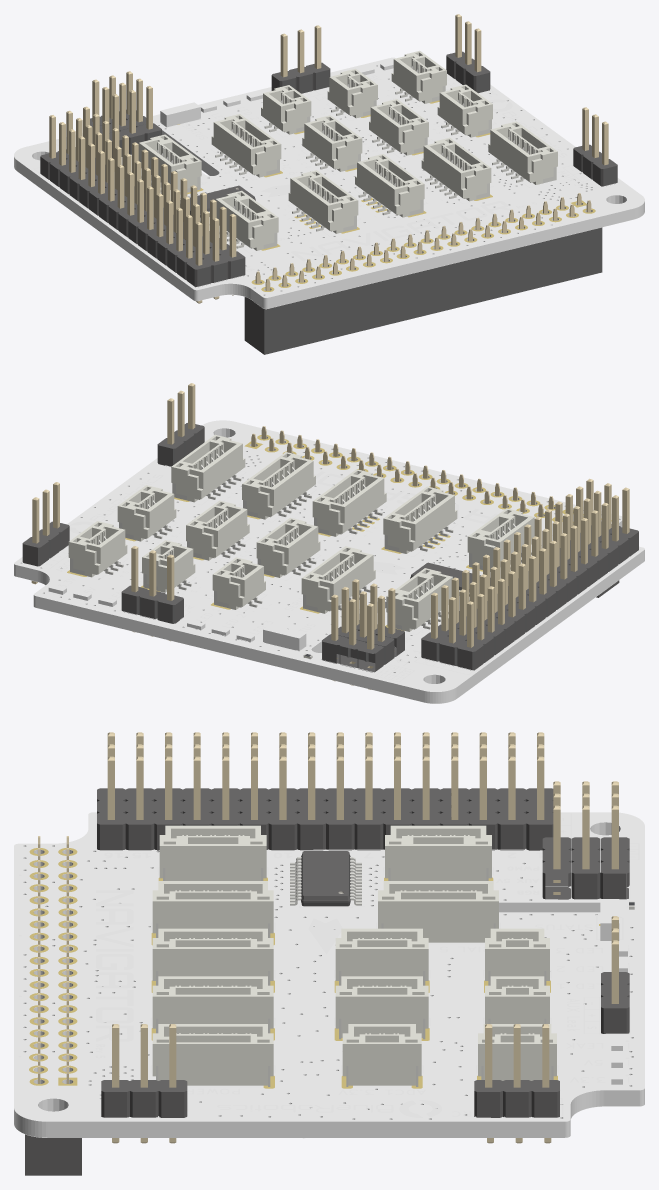
The model's file is navigator.glb.
3 views of the same model, one above another, from view 1: azimuth 30°, elevation 25°; view 2: azimuth 150°, elevation 25°; view 3: azimuth 270°, elevation 25° (orthographic). The views are drawn at different scales.
Parts seen in each view (by area): view 1: SHAPE_4241_IndexedFaceSet; view 2: SHAPE_4241_IndexedFaceSet; view 3: SHAPE_4241_IndexedFaceSet.
Part boxes in pixels (x1,y1,x2,y2): SHAPE_4241_IndexedFaceSet: [14, 14, 644, 354]; SHAPE_4241_IndexedFaceSet: [14, 383, 644, 703]; SHAPE_4241_IndexedFaceSet: [14, 732, 644, 1175].
Bounding box in the file's own units: 0.065 × 0.0171 × 0.056.
